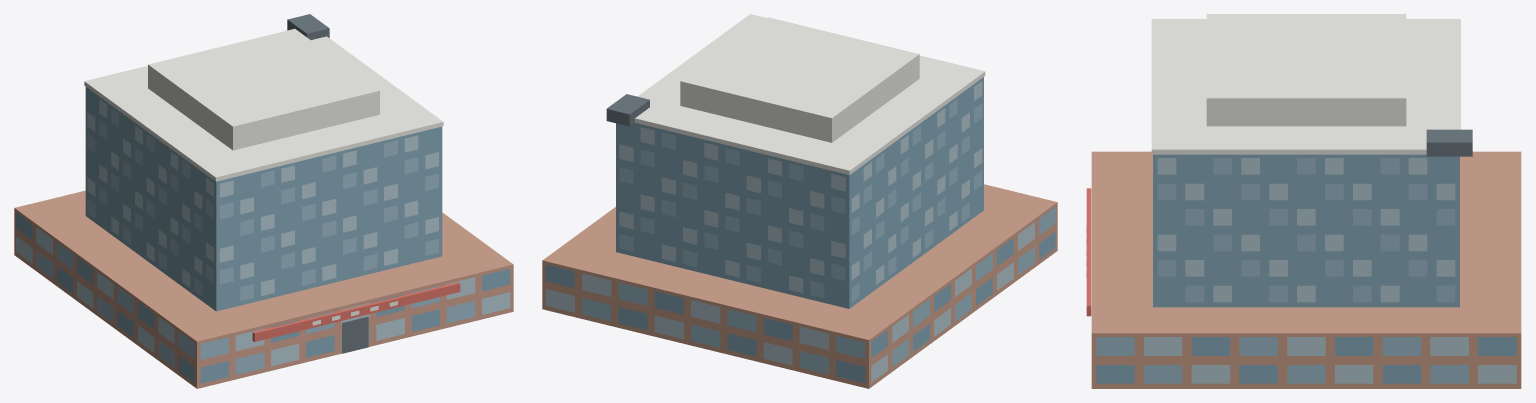
The model's file is sky-building-0.glb.
The picture shows the model from 3 angles, left to right: view 1: azimuth 30°, elevation 25°; view 2: azimuth 150°, elevation 25°; view 3: azimuth 270°, elevation 25°; orthographic projection. The views are drawn at different scales.
Size of the model in its own units: 14.02 by 8.7 by 14.18.
